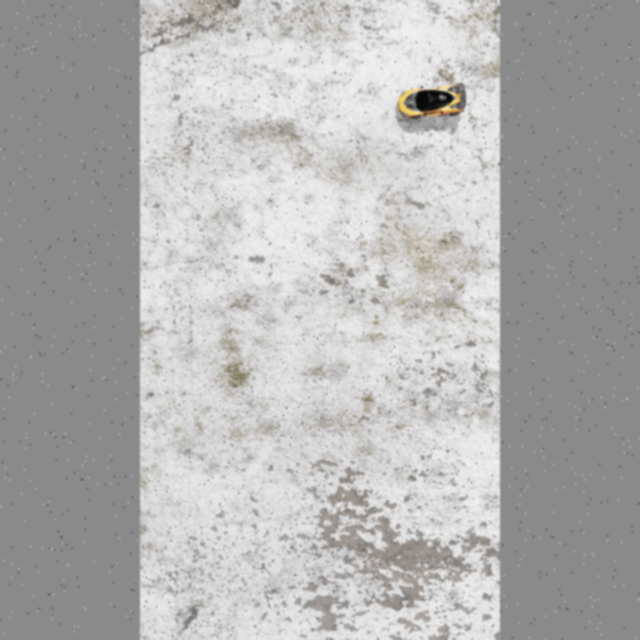car: (395, 80, 467, 122)
